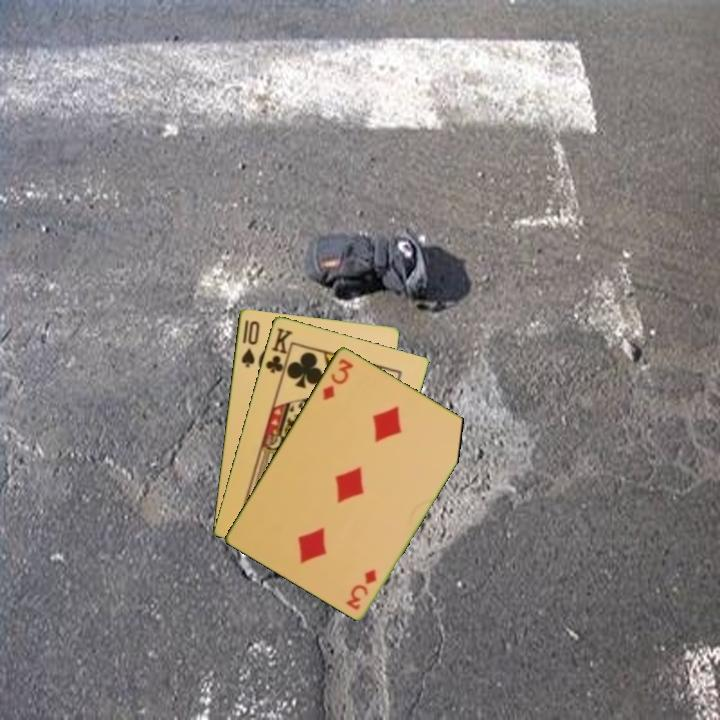10s: (237, 317, 262, 370)
3d: (319, 354, 357, 403), (343, 565, 379, 612)
Kc: (262, 324, 295, 380)
